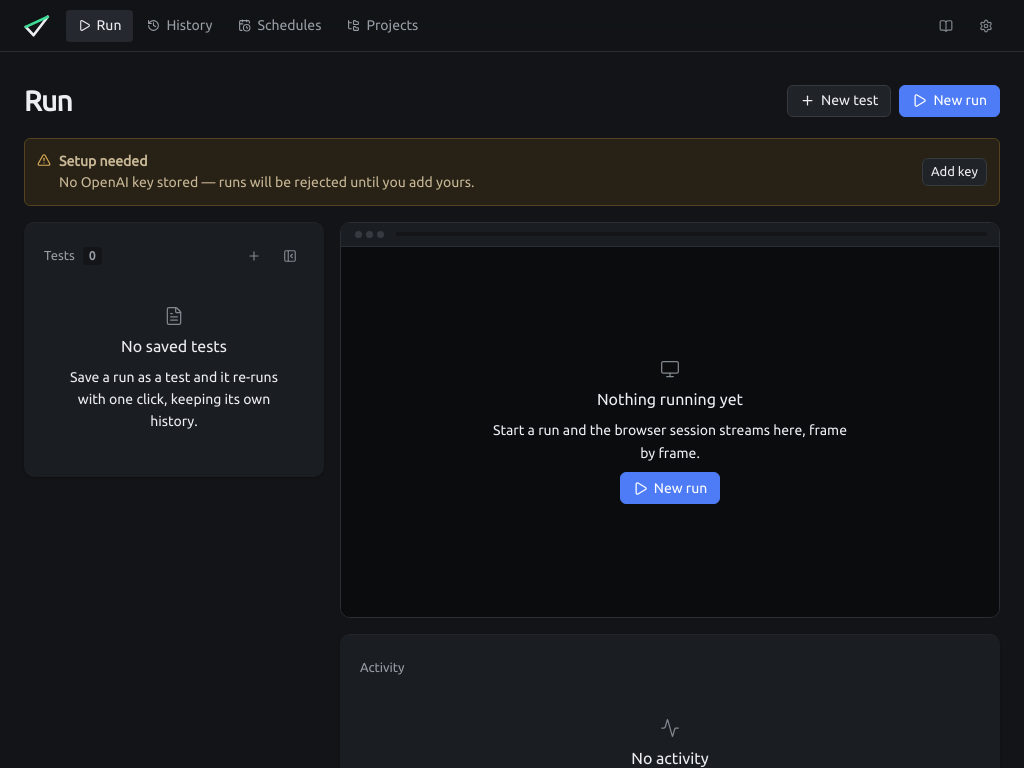
Billing panel (US-022) › keeps a past_due subscription reassuring while its paid period lasts
Expected: the text "History" is shown, [166,15,212,36]
Click the button named "Settings".
click(986, 26)  # box [972,12,1000,40]
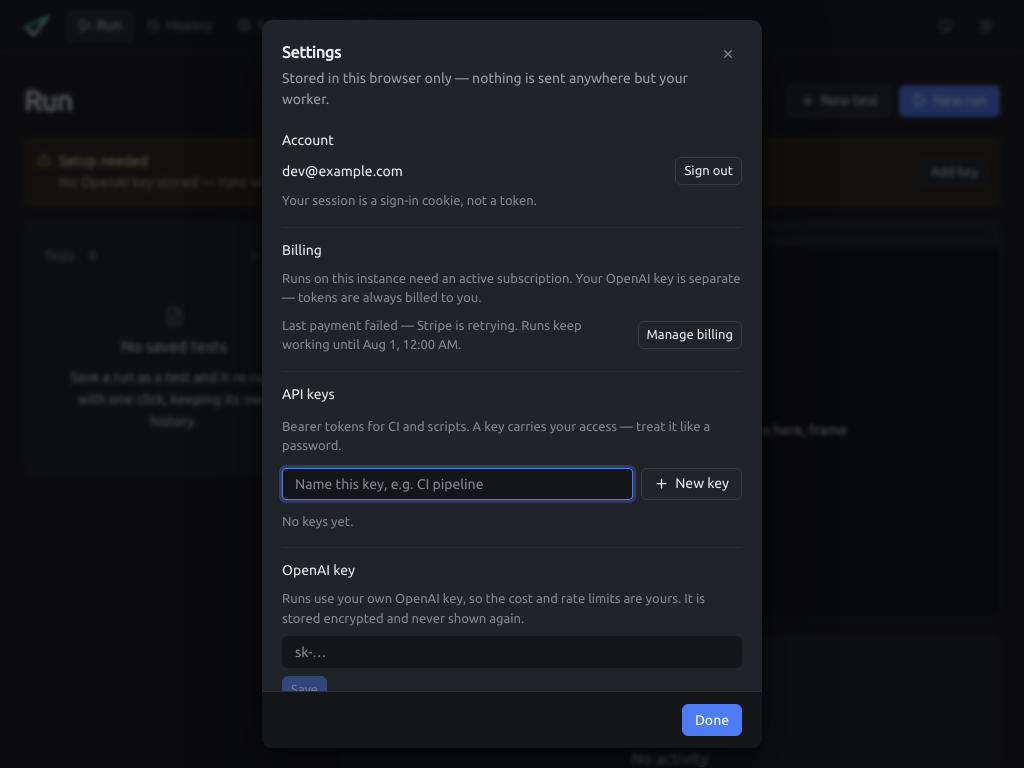
Result: the text "Runs keep working until" is shown at [282,318,582,351]
Result: the button "Manage billing" is shown at [638,321,742,349]
